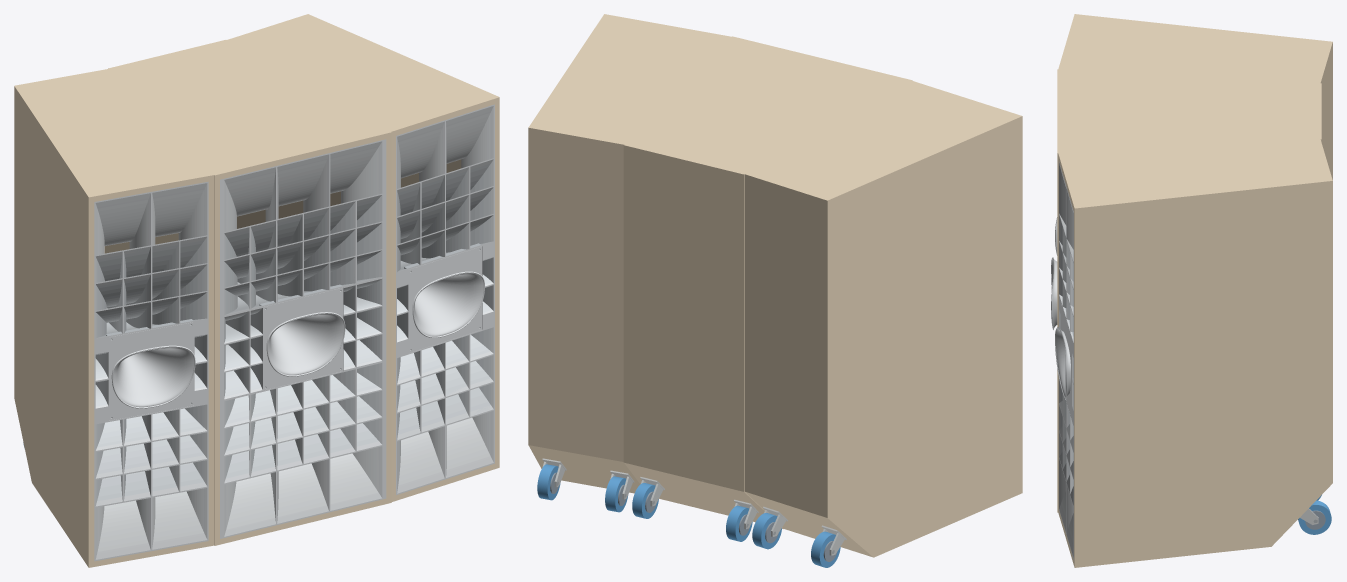
The model's file is Diamantstumpf_R07_Gesamtaufbau.glb.
3 views of the same model, side by side, from view 1: azimuth 30°, elevation 25°; view 2: azimuth 150°, elevation 25°; view 3: azimuth 270°, elevation 25° (orthographic). The views are drawn at different scales.
Visible parts, largest first — view 1: Top L · Gehäuse, Mitte · Tiefmittelton · Frontkanäle, Mitte · Gehäuse, Mitte · vollflächige Silberblende, Top L · Tiefmittelton · Frontkanäle, Top R · Gehäuse, Top R · Tiefmittelton · Frontkanäle, Mitte · Bassmund · Frontkanäle, Top L · vollflächige Silberblende, Top R · vollflächige Silberblende, Top L · Bassmund · Frontkanäle, Top R · Bassmund · Frontkanäle (+6 smaller); view 2: Top L · Gehäuse, Mitte · Gehäuse, Top R · Gehäuse, Top L · umlaufender Multiplexrahmen, Mitte · umlaufender Multiplexrahmen; view 3: Top R · Gehäuse, Mitte · Gehäuse, Top L · Gehäuse, Top R · umlaufender Multiplexrahmen, Top R · vollflächige Silberblende, Top R · Tiefmittelton · Frontkanäle, Mitte · umlaufender Multiplexrahmen, Top R · G2 · Manta Tief, Top R · Bassmund · Frontkanäle, Top R · Bluewheel 2 · Ø100, Mitte · G2 · Manta Tief, Top L · umlaufender Multiplexrahmen.
Part boxes in pixels (x1,y1,x2,y2): Top L · Gehäuse: (14, 69, 211, 564); Mitte · Tiefmittelton · Frontkanäle: (224, 198, 381, 478); Mitte · Gehäuse: (108, 40, 387, 228); Mitte · vollflächige Silberblende: (220, 139, 386, 538); Top L · Tiefmittelton · Frontkanäle: (95, 240, 207, 505); Top R · Gehäuse: (227, 14, 494, 187); Top R · Tiefmittelton · Frontkanäle: (397, 163, 492, 434); Mitte · Bassmund · Frontkanäle: (226, 147, 379, 529); Top L · vollflächige Silberblende: (94, 181, 208, 561); Top R · vollflächige Silberblende: (396, 104, 494, 495); Top L · Bassmund · Frontkanäle: (97, 189, 204, 551); Top R · Bassmund · Frontkanäle: (398, 113, 490, 485); Top L · Gehäuse: (744, 83, 1018, 557); Mitte · Gehäuse: (623, 39, 908, 528); Top R · Gehäuse: (528, 16, 729, 493); Top L · umlaufender Multiplexrahmen: (908, 81, 1022, 494); Mitte · umlaufender Multiplexrahmen: (730, 36, 912, 82); Top R · Gehäuse: (1064, 139, 1332, 567); Mitte · Gehäuse: (1063, 69, 1321, 152); Top L · Gehäuse: (1064, 14, 1332, 180); Top R · umlaufender Multiplexrahmen: (1058, 153, 1080, 567); Top R · vollflächige Silberblende: (1059, 162, 1073, 559); Top R · Tiefmittelton · Frontkanäle: (1059, 221, 1073, 501); Mitte · umlaufender Multiplexrahmen: (1057, 69, 1063, 512); Top R · G2 · Manta Tief: (1055, 302, 1071, 418); Top R · Bassmund · Frontkanäle: (1060, 170, 1073, 544); Top R · Bluewheel 2 · Ø100: (1298, 500, 1331, 534); Mitte · G2 · Manta Tief: (1051, 257, 1057, 329); Top L · umlaufender Multiplexrahmen: (1058, 14, 1080, 69).
Size of the model in its own units: 1.39 by 1.2 by 0.8525.
